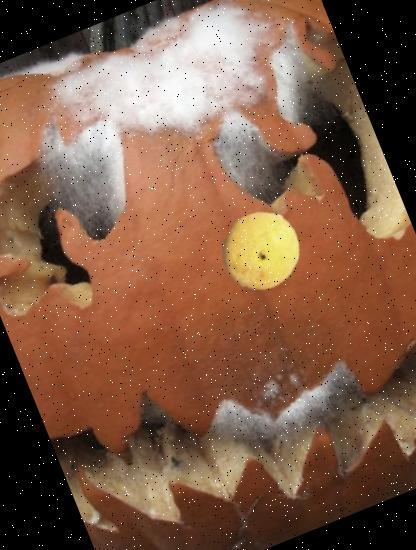Cantaloupe: (208, 196, 315, 303)
